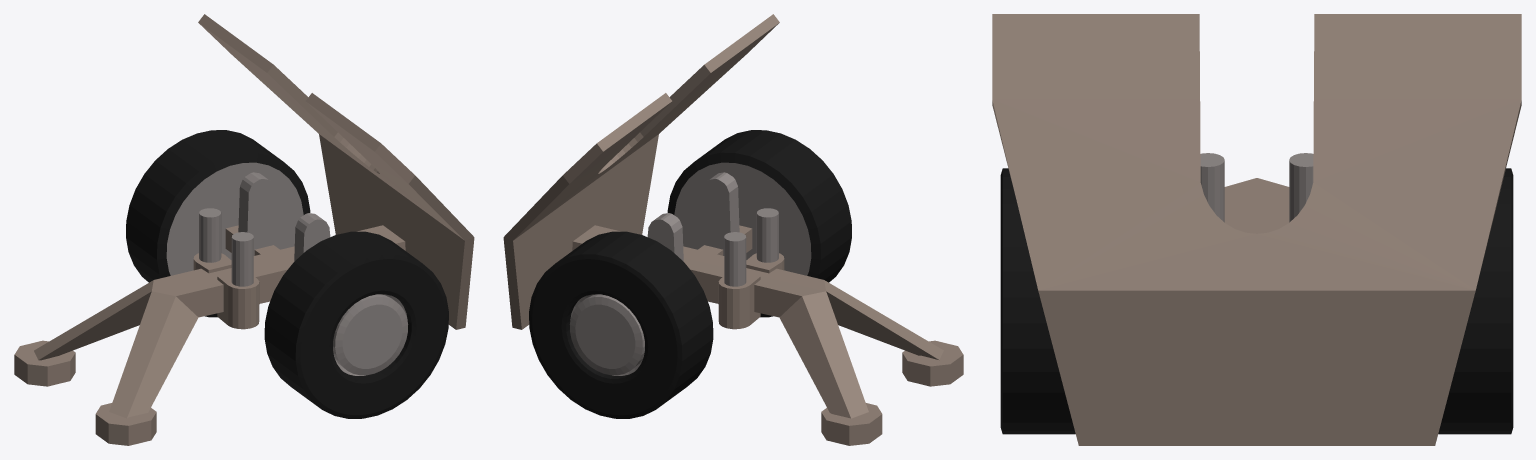
File: ArtilleryBody-col.glb
3 views of the same model, side by side, from view 1: azimuth 30°, elevation 25°; view 2: azimuth 150°, elevation 25°; view 3: azimuth 270°, elevation 25° (orthographic). The views are drawn at different scales.
Visible parts, largest first — view 1: ArtilleryBody-col; view 2: ArtilleryBody-col; view 3: ArtilleryBody-col.
Part boxes in pixels (<box>): ArtilleryBody-col: <box>14,14,474,445</box>; ArtilleryBody-col: <box>503,14,963,445</box>; ArtilleryBody-col: <box>992,14,1521,445</box>.
Size of the model in its own units: 3.55 by 2.7 by 3.15.
